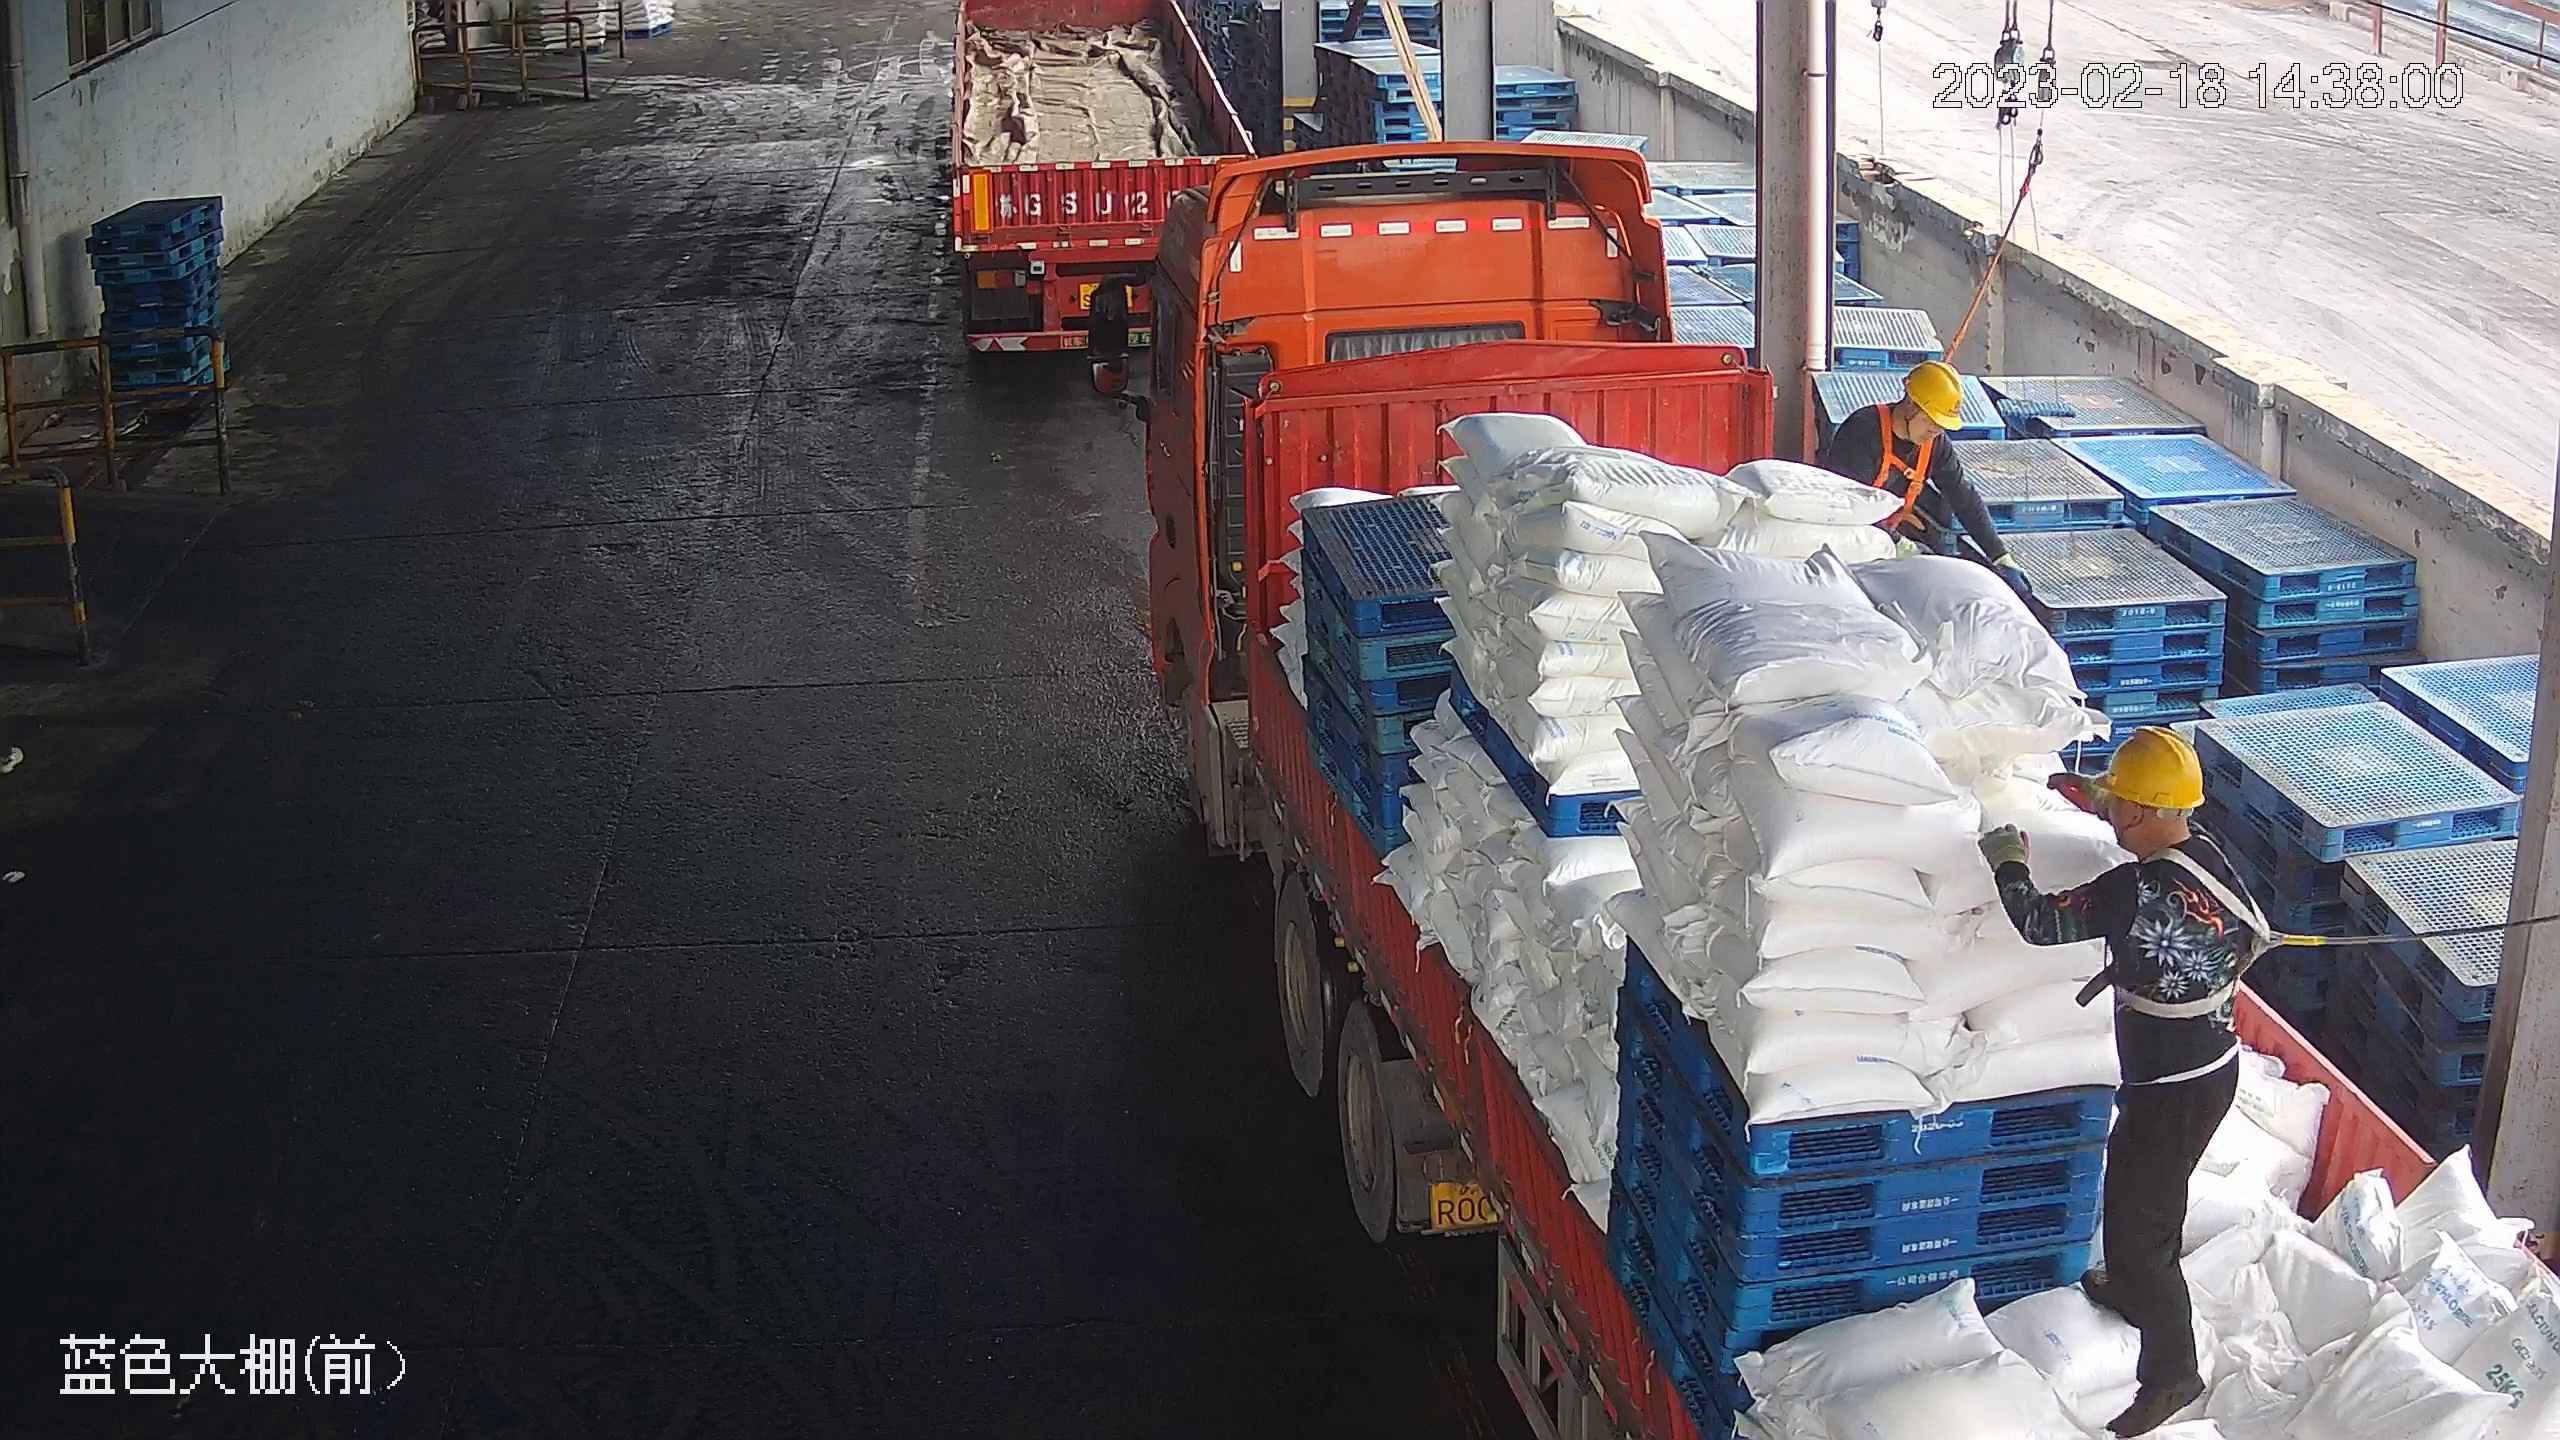belt: (2115, 853, 2287, 1023), (1838, 357, 1975, 468), (1870, 414, 1934, 506)
head: (2064, 722, 2243, 940), (1837, 356, 1976, 467)
helmet: (1838, 356, 1975, 466), (2096, 723, 2209, 810), (1902, 357, 1969, 430)
people: (1974, 724, 2245, 1428)
truck: (1088, 151, 2553, 1439)
